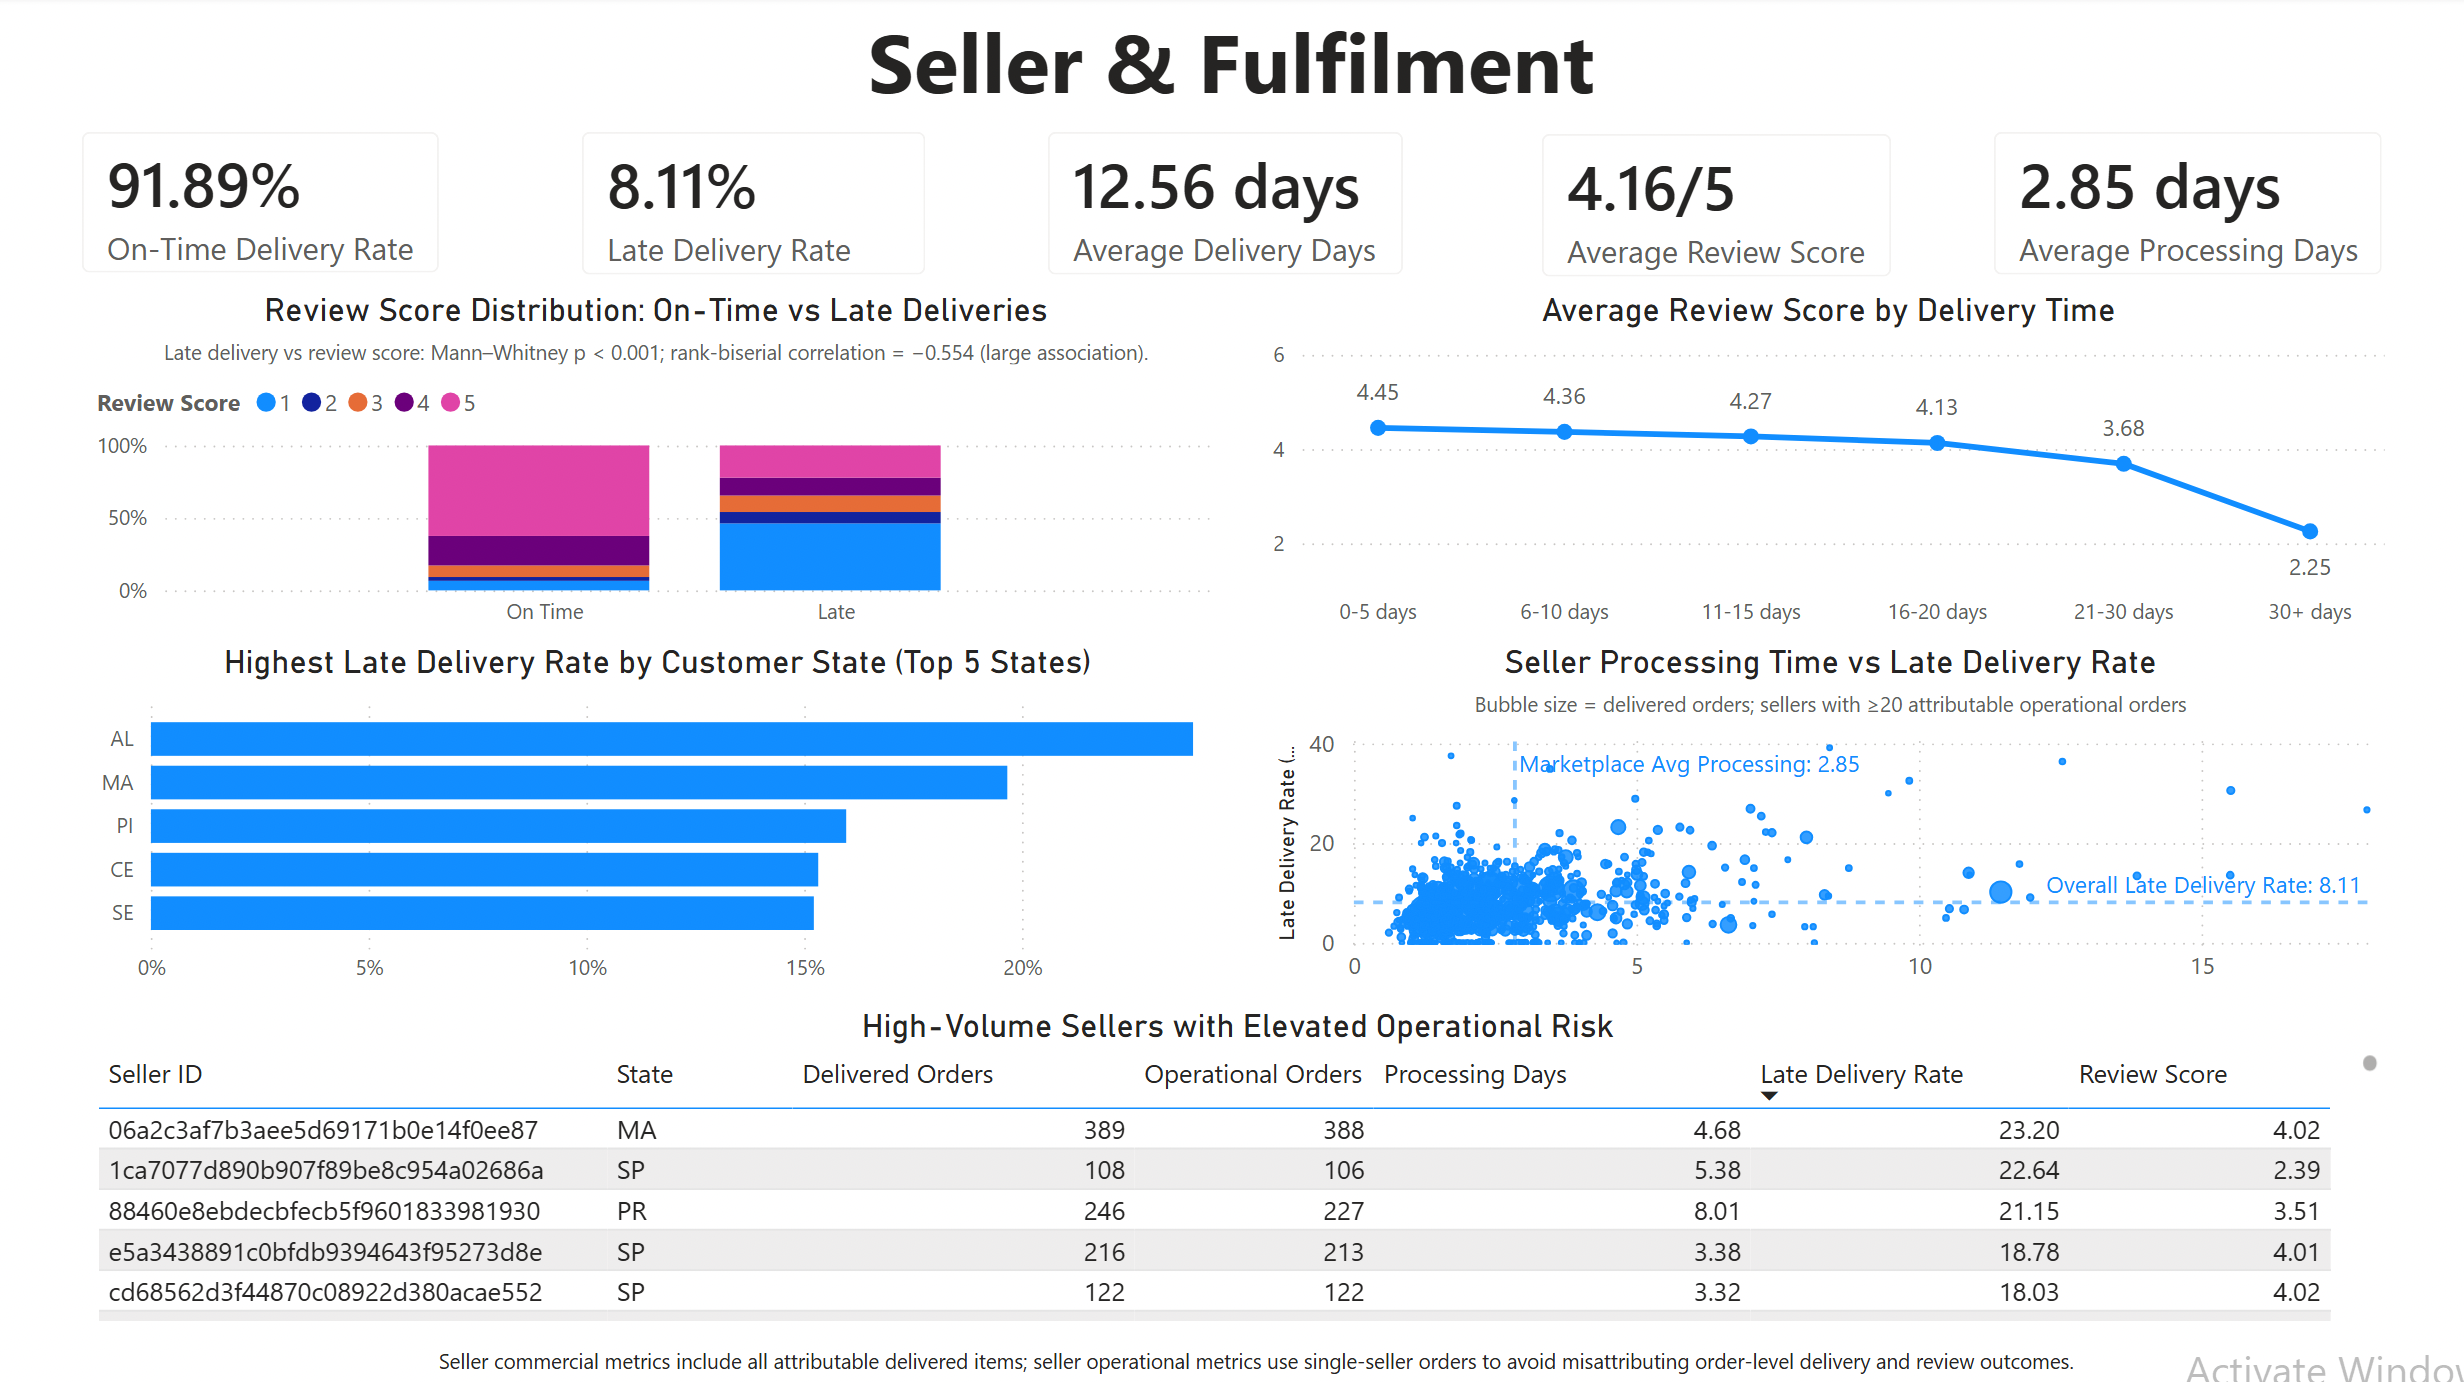

The page's visual inventory and layout, read from the dashboard file:
{"tool":"powerbi","page":{"name":"Seller & Fulfilment","canvas":[1280,720],"ordinal":2},"visuals":[{"type":"cardVisual","fields":{"Data":["Measures .Late Delivery Rate"]},"box":[285.8,53.6,212.1,108.3],"z":0},{"type":"cardVisual","fields":{"Data":["Measures .Average Review Score"]},"box":[783.6,54.7,215.4,108.3],"z":1000},{"type":"cardVisual","fields":{"Data":["Measures .On-Time Delivery Rate"]},"box":[26.8,53.6,219.9,107.2],"z":2000},{"type":"cardVisual","fields":{"Data":["Measures .Average Delivery Days"]},"box":[526.9,53.6,218.8,108.3],"z":3000},{"type":"cardVisual","fields":{"Data":["Measures .Average Processing Days"]},"box":[1016.9,53.6,235.5,108.3],"z":4000},{"type":"textbox","box":[371.7,0,534.7,69.2],"z":5000},{"type":"hundredPercentStackedColumnChart","title":"Review Score Distribution: On-Time vs Late Deliveries","fields":{"Category":["order_dashboard.Delivery Status"],"Y":["CountNonNull(order_dashboard.order_id)"],"Series":["order_dashboard.latest_review_score"]},"box":[46.9,152.9,589.4,183.1],"z":6000},{"type":"lineChart","title":"Average Review Score by Delivery Time","fields":{"Category":["order_dashboard.Delivery Time Band"],"Y":["Measures .Average Review Score"]},"box":[655.3,152.9,586,183.1],"z":7000},{"type":"clusteredBarChart","title":"Highest Late Delivery Rate by Customer State (Top 5 States)","fields":{"Category":["order_dashboard.customer_state"],"Y":["Measures .Late Delivery Rate"]},"box":[46.9,336,590.5,185.3],"z":8000},{"type":"scatterChart","title":"Seller Processing Time vs Late Delivery Rate","fields":{"X":["Avg(seller_dashboard.avg_seller_processing_days)"],"Y":["Avg(seller_dashboard.late_delivery_rate_pct)"],"Size":["Sum(seller_dashboard.delivered_orders)"],"Category":["seller_dashboard.seller_id"]},"box":[657.5,336,583.8,185.3],"z":9000},{"type":"tableEx","title":"High-Volume Sellers with Elevated Operational Risk","fields":{"Values":["seller_dashboard.seller_id","seller_dashboard.seller_state","Sum(seller_dashboard.delivered_orders)","Sum(seller_dashboard.single_seller_orders)","seller_dashboard.avg_seller_processing_days","seller_dashboard.late_delivery_rate_pct","seller_dashboard.avg_review_score"]},"box":[46.9,524.7,1192.2,167.4],"z":10000},{"type":"textbox","box":[223.3,692.1,864,27.9],"z":11000}]}

Visuals, with their boxes on the page's 1280x720 design canvas (x1, y1, x2, y2). These are canvas units, not pixel positions in the 2464x1382 screenshot, which may show the page scaled, cropped or inside an application window:
cardVisual - Measures .Late Delivery Rate: 286/54/498/162
cardVisual - Measures .Average Review Score: 784/55/999/163
cardVisual - Measures .On-Time Delivery Rate: 27/54/247/161
cardVisual - Measures .Average Delivery Days: 527/54/746/162
cardVisual - Measures .Average Processing Days: 1017/54/1252/162
textbox: 372/0/906/69
"Review Score Distribution: On-Time vs Late Deliveries" hundredPercentStackedColumnChart: 47/153/636/336
"Average Review Score by Delivery Time" lineChart: 655/153/1241/336
"Highest Late Delivery Rate by Customer State (Top 5 States)" clusteredBarChart: 47/336/637/521
"Seller Processing Time vs Late Delivery Rate" scatterChart: 658/336/1241/521
"High-Volume Sellers with Elevated Operational Risk" tableEx: 47/525/1239/692
textbox: 223/692/1087/720
